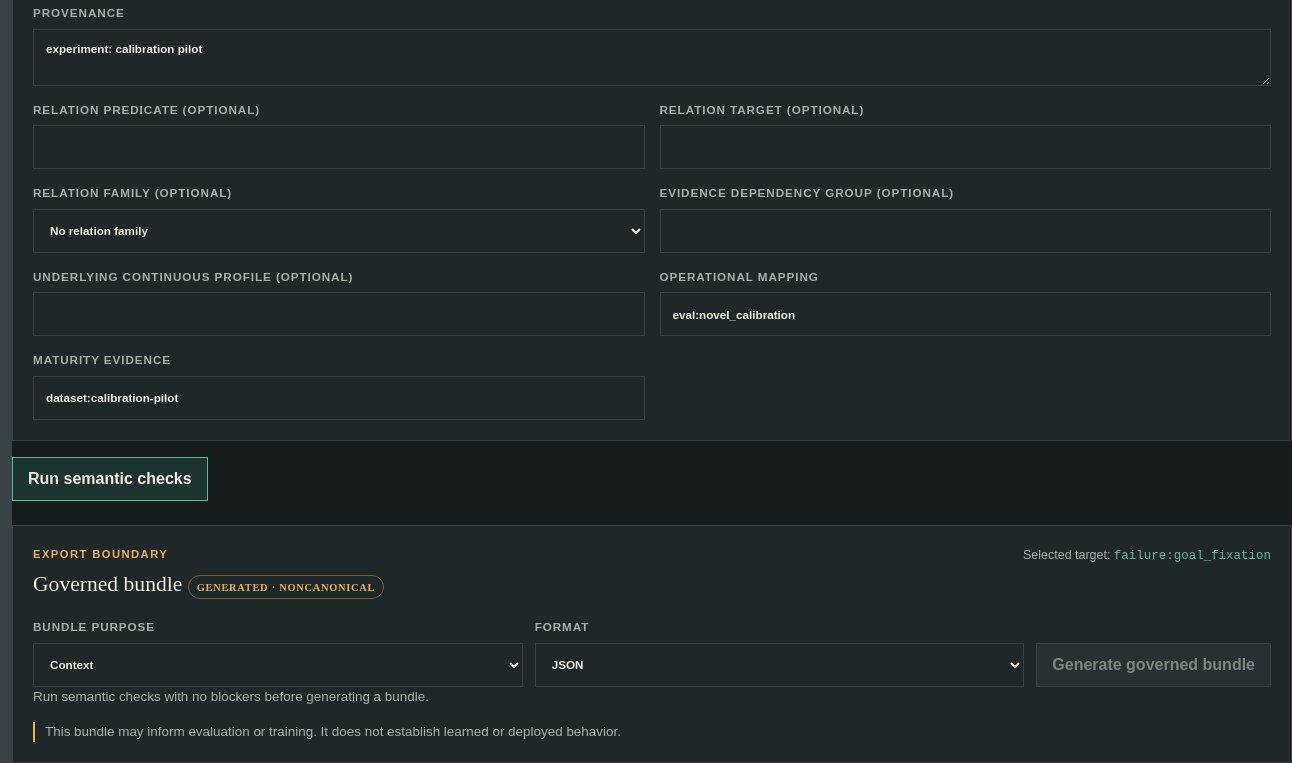
Test: governed workbench views › reports clipboard failure without discarding the generated bundle
(page scrolled)
Click the button "Run semantic checks".
click(110, 479)  # box [12,457,208,501]
(page scrolled)
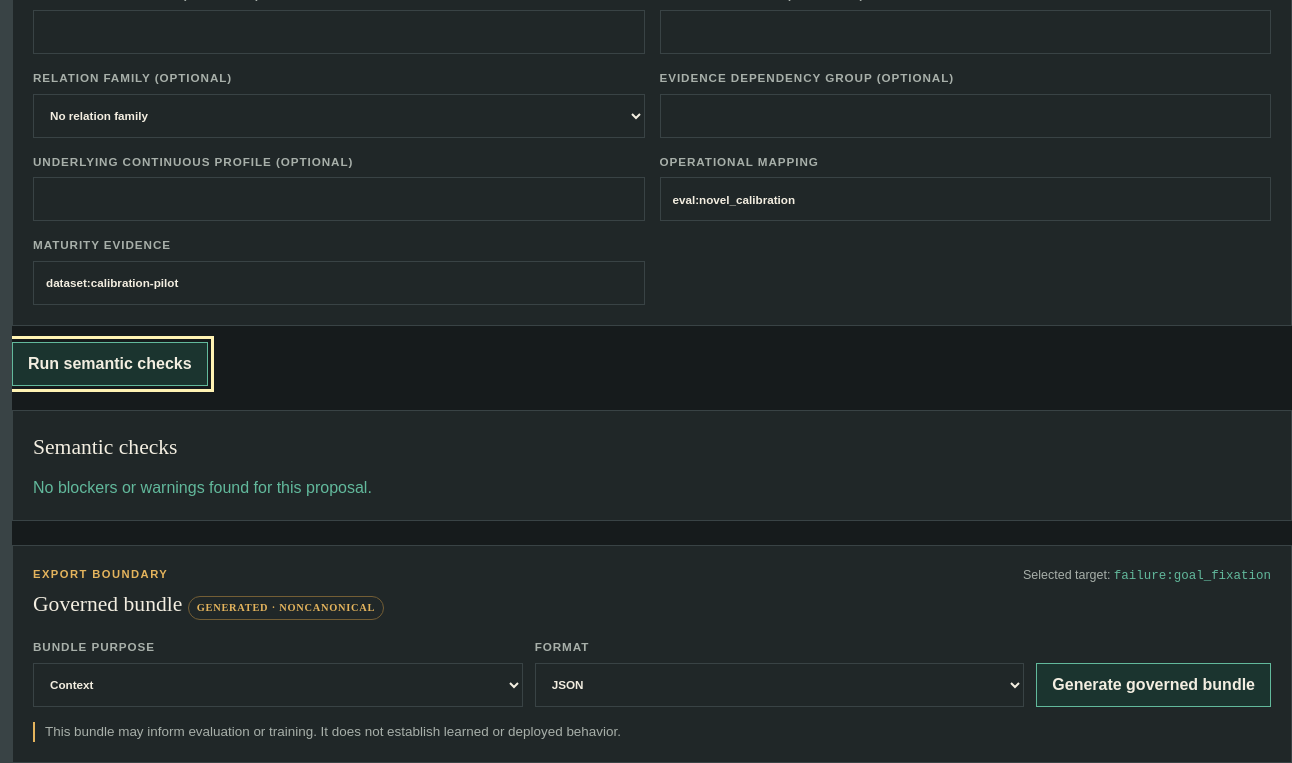
Click the button "Generate governed bundle".
click(1154, 685)  # box [1036,663,1271,707]
(page scrolled)
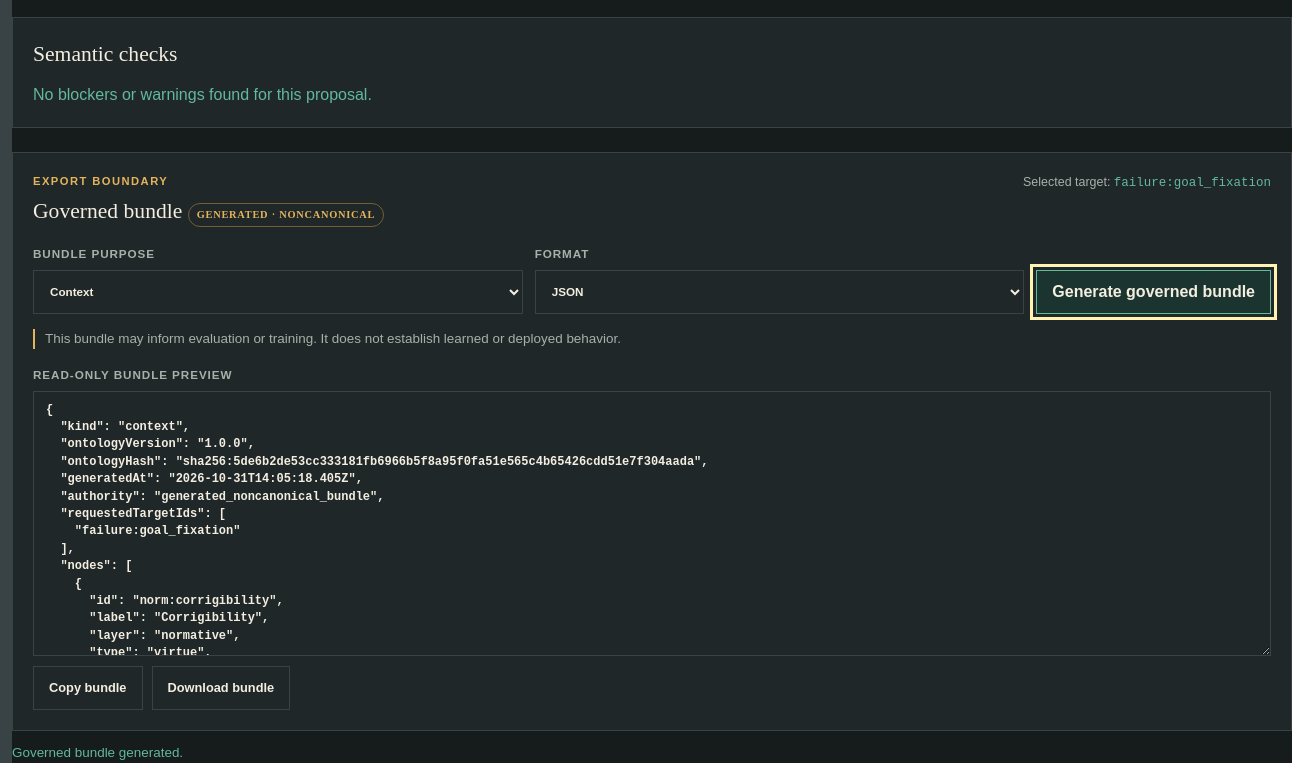
Click the button "Copy bundle".
click(88, 688)  # box [33,666,142,710]
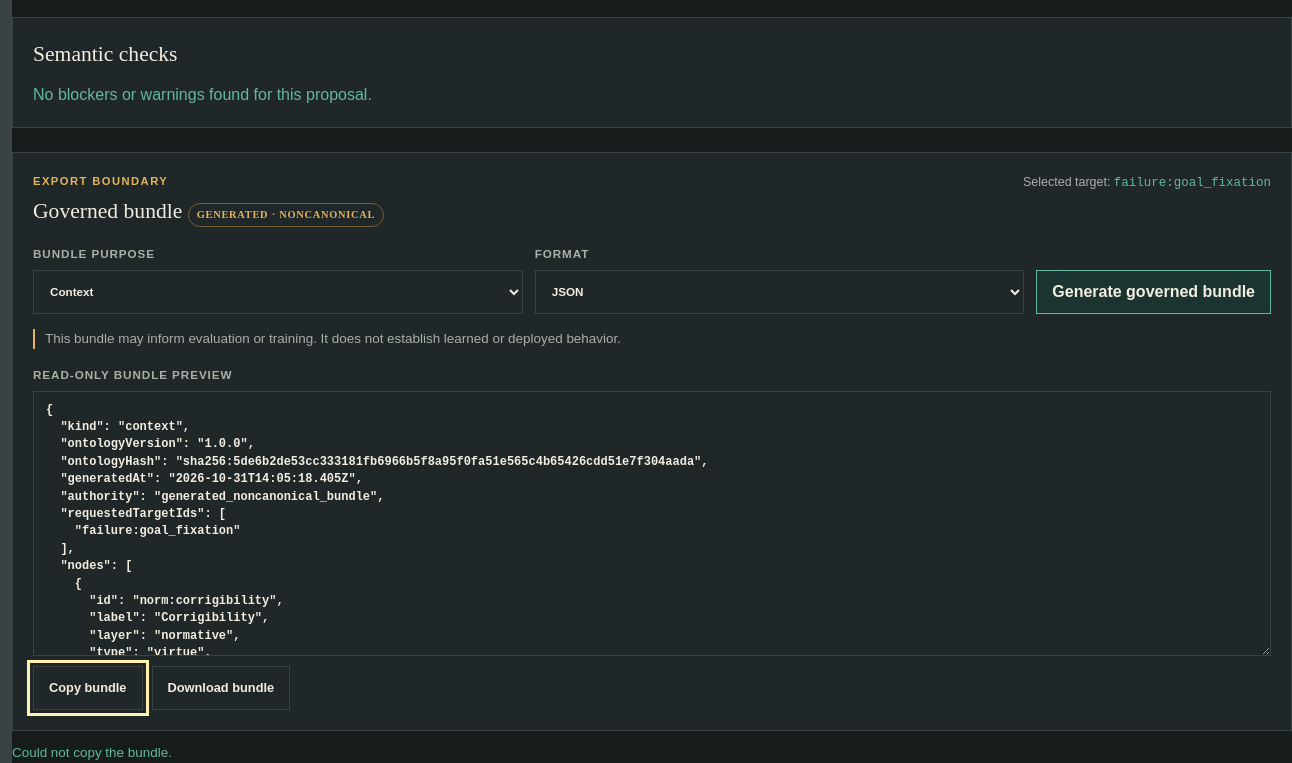
expect the text box labelled "Read-only bundle preview" is shown: met, box [33,391,1271,656]
expect the message reads "Could not copy the bundle.": met, box [12,745,172,760]
